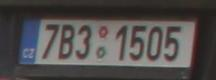0: (147, 26, 162, 60)
1: (116, 25, 127, 60)
3: (76, 25, 90, 59)
5: (165, 26, 180, 60), (130, 26, 144, 60)
7: (42, 25, 58, 58)
B: (60, 25, 74, 59)
